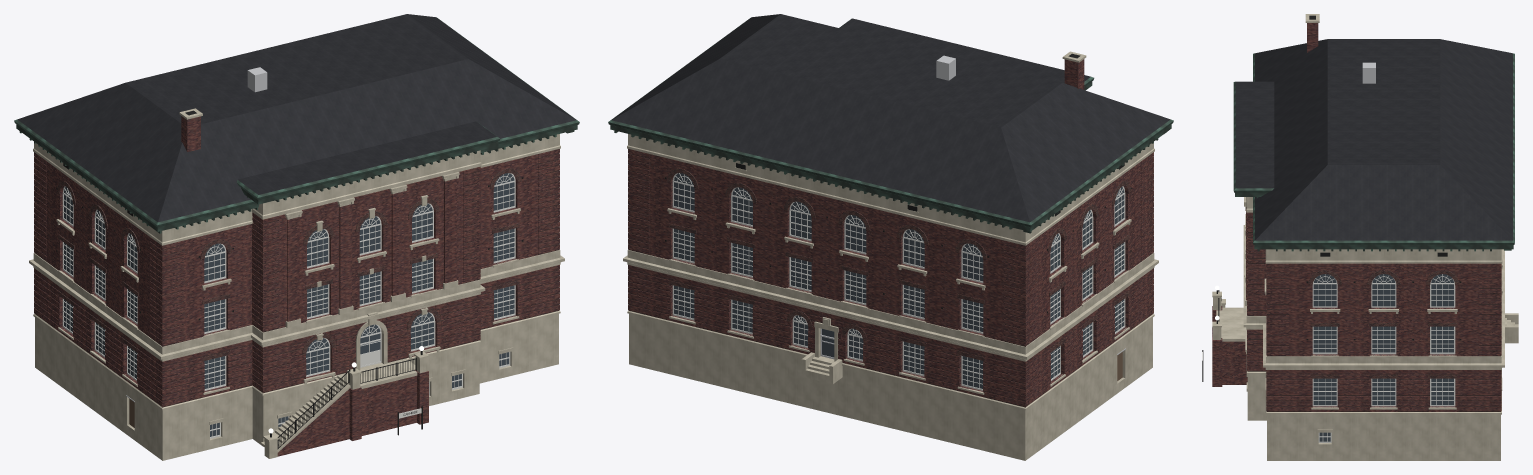
Rendered from carnegie.glb.
3 renders of one model, left to right at view 1: azimuth 30°, elevation 25°; view 2: azimuth 150°, elevation 25°; view 3: azimuth 270°, elevation 25°, orthographic. The views are drawn at different scales.
Parts seen in each view (by area): view 1: Carnegie_Brick, Carnegie_Roof, Carnegie_Stone, Carnegie_Glass, Carnegie_Frame, Carnegie_Copper, Carnegie_Joint, Carnegie_BrickTrim, Carnegie_Dark; view 2: Carnegie_Roof, Carnegie_Brick, Carnegie_Stone, Carnegie_Glass, Carnegie_Frame, Carnegie_Copper, Carnegie_Joint, Carnegie_BrickTrim, Carnegie_Metal; view 3: Carnegie_Roof, Carnegie_Brick, Carnegie_Stone, Carnegie_Glass, Carnegie_Copper, Carnegie_Frame, Carnegie_Joint, Carnegie_BrickTrim.
Boxes of the visible parts, <box> form: Carnegie_Brick: <box>34,116,559,456</box>; Carnegie_Roof: <box>17,14,576,222</box>; Carnegie_Stone: <box>29,108,564,460</box>; Carnegie_Glass: <box>64,173,514,436</box>; Carnegie_Frame: <box>62,173,515,438</box>; Carnegie_Copper: <box>14,17,579,233</box>; Carnegie_Joint: <box>34,153,559,407</box>; Carnegie_BrickTrim: <box>57,168,521,361</box>; Carnegie_Dark: <box>56,110,523,449</box>; Carnegie_Roof: <box>611,14,1170,222</box>; Carnegie_Brick: <box>628,59,1153,406</box>; Carnegie_Stone: <box>623,51,1158,460</box>; Carnegie_Glass: <box>674,173,1123,388</box>; Carnegie_Frame: <box>672,173,1125,390</box>; Carnegie_Copper: <box>608,17,1173,233</box>; Carnegie_Joint: <box>628,153,1153,407</box>; Carnegie_BrickTrim: <box>666,168,1130,361</box>; Carnegie_Metal: <box>820,55,1125,359</box>; Carnegie_Roof: <box>1235,39,1512,240</box>; Carnegie_Brick: <box>1212,23,1501,411</box>; Carnegie_Stone: <box>1212,14,1518,460</box>; Carnegie_Glass: <box>1313,274,1453,441</box>; Carnegie_Copper: <box>1233,53,1514,251</box>; Carnegie_Frame: <box>1202,274,1455,442</box>; Carnegie_Joint: <box>1247,216,1500,411</box>; Carnegie_BrickTrim: <box>1308,270,1459,378</box>.
Bounding box in the file's own units: 33.9 × 24.26 × 23.99.
12 materials, 5 textured.
